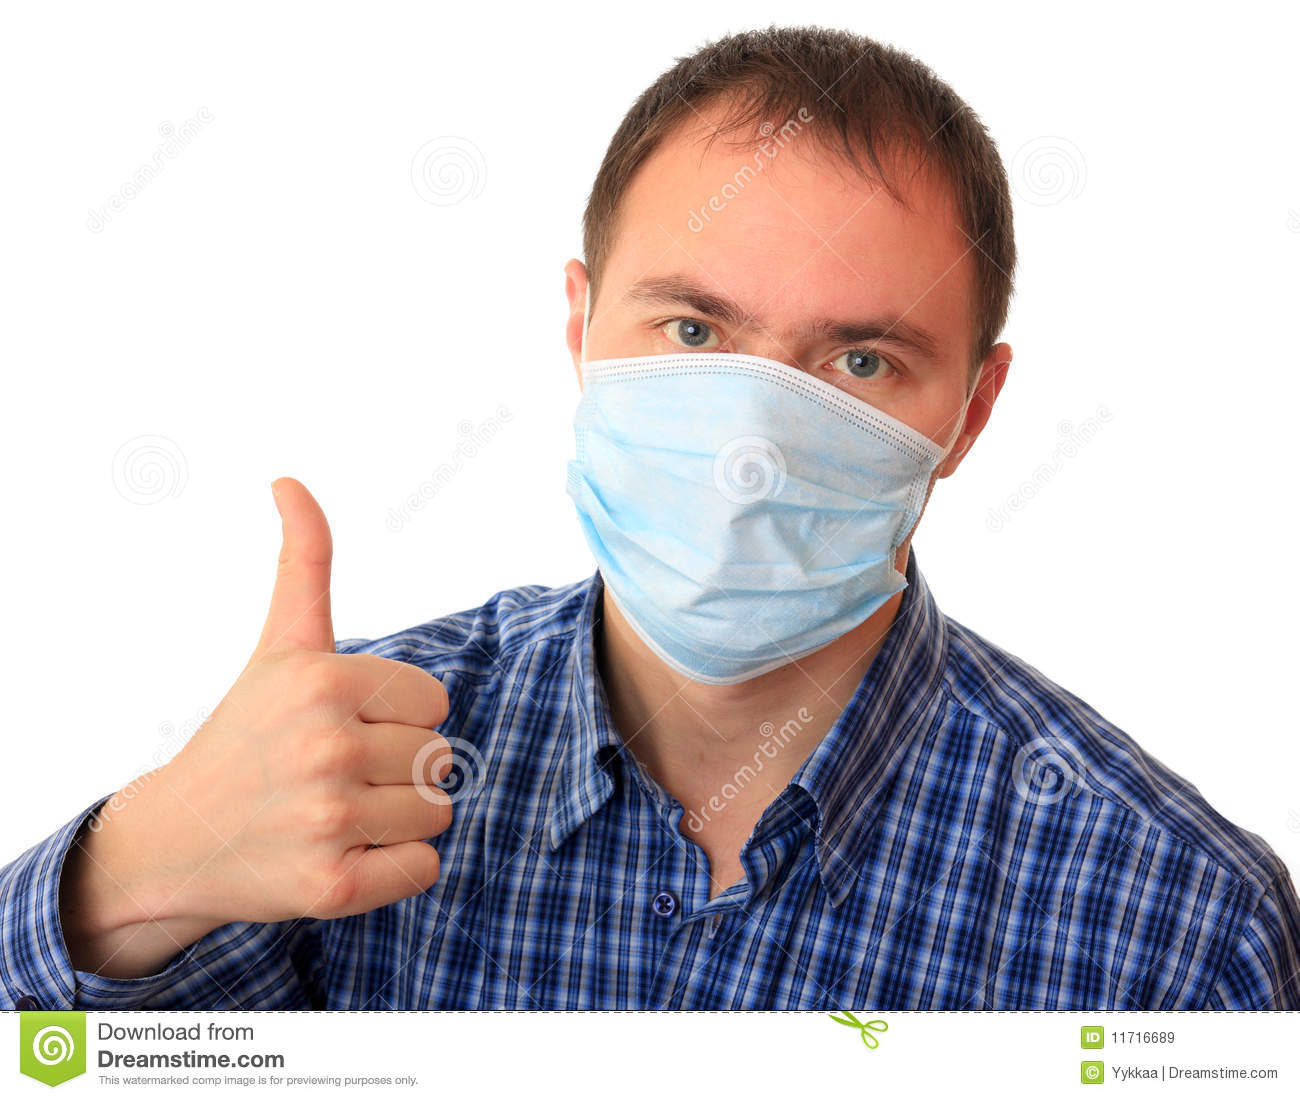mask: (565, 356, 938, 682)
